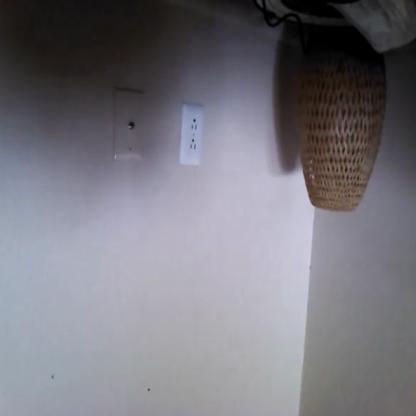OUTLET: (180, 105, 204, 165)
